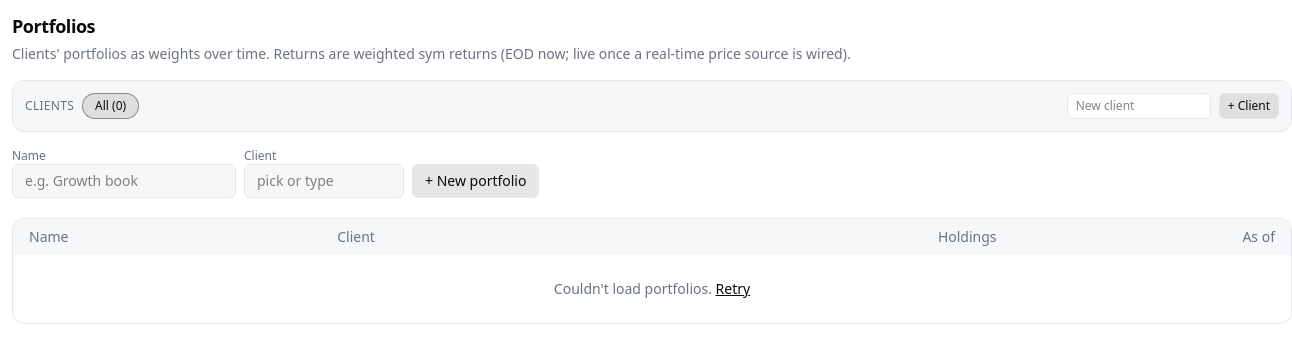
Scenario: PortfoliosPage load-failure surfacing (QH.8 / AC5) › shows an error + retry on a failed mount load, then renders rows after a successful retry
The width and height of the screenshot is (1292, 341).
Expected: the text "Couldn't load portfolios. Retry" is shown, [13,255,1291,323]
Click the button "Retry" at point(733, 289), box [716,279,750,299]
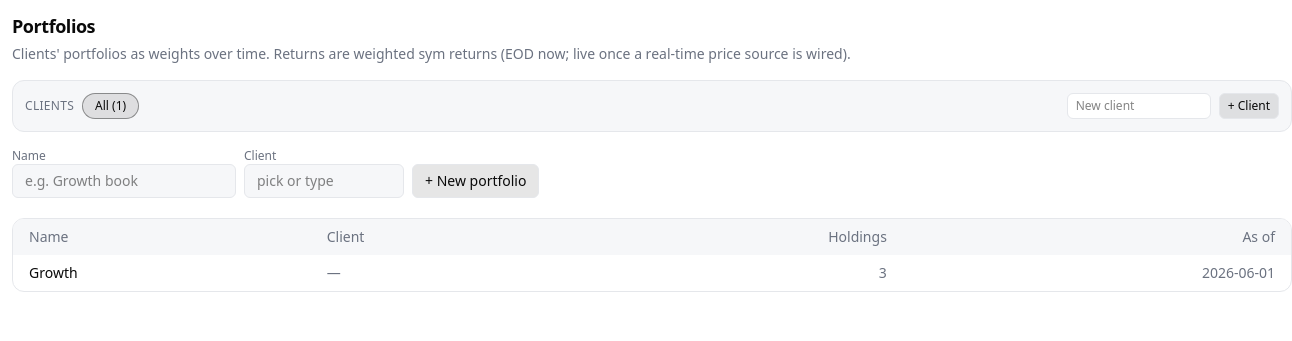
Now the link "Growth" is shown, box [29,263,78,282]
Now the text "Couldn.t load portfolios" is gone
